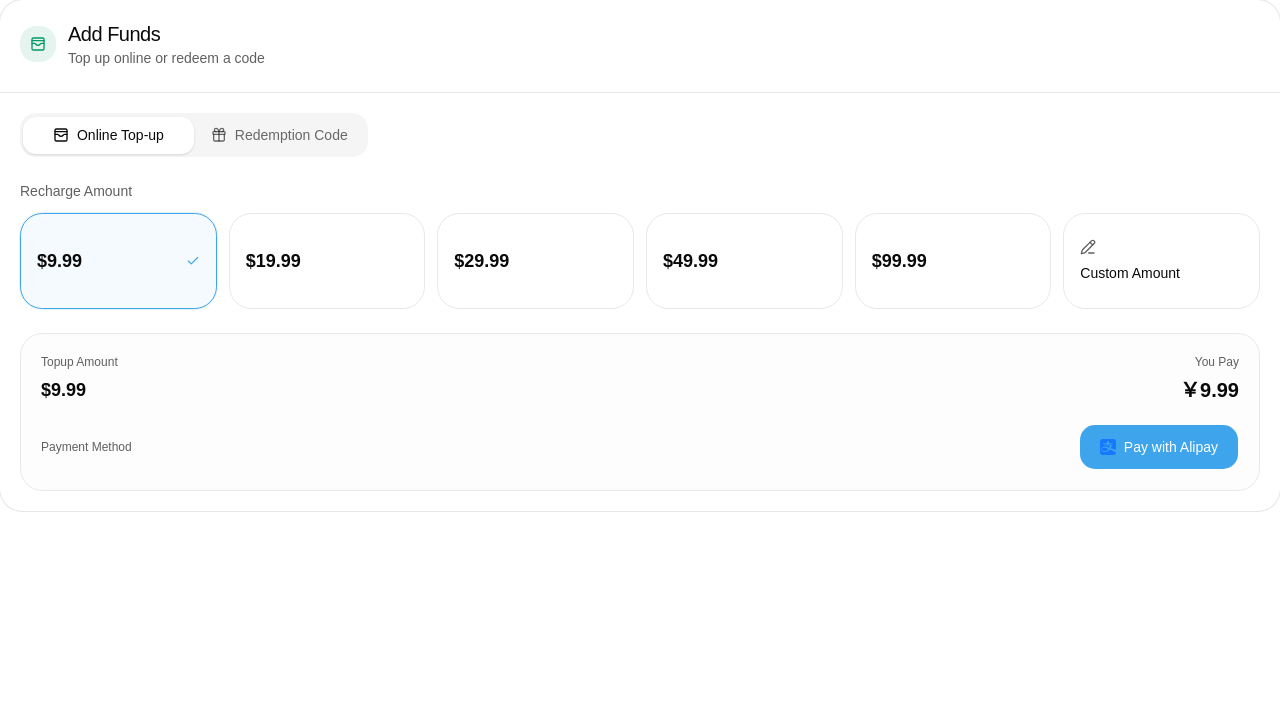
Scenario: shows the disabled redemption explanation without accepting a code
Click the tab "Redemption Code" at (279, 135), box [194, 116, 365, 154]
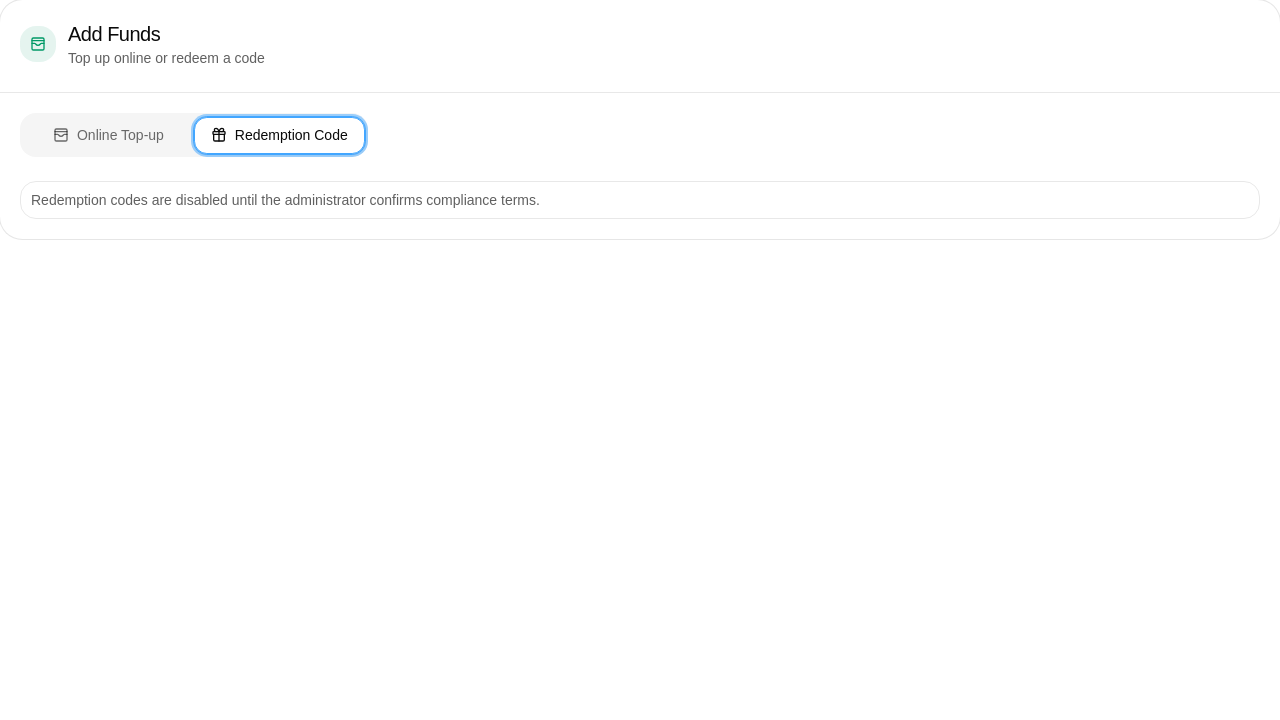
Check: the text "Redemption codes are disabled until the administrator confirms compliance terms." is shown, box [31, 192, 540, 208]
